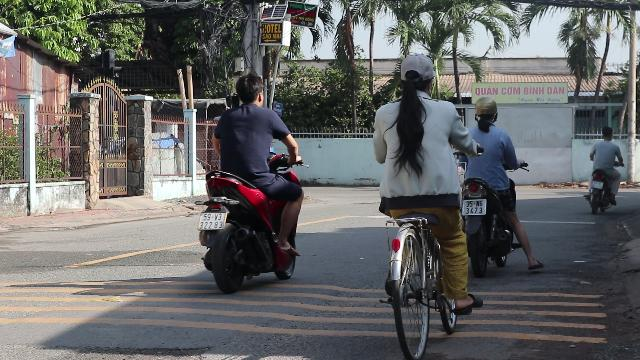helmet: (396, 54, 436, 94), (472, 96, 498, 126)
licenseplate: (199, 212, 227, 230), (462, 199, 486, 214)
motorcyclist: (194, 71, 306, 293), (457, 97, 533, 276)
nohelmet: (233, 73, 265, 107)
